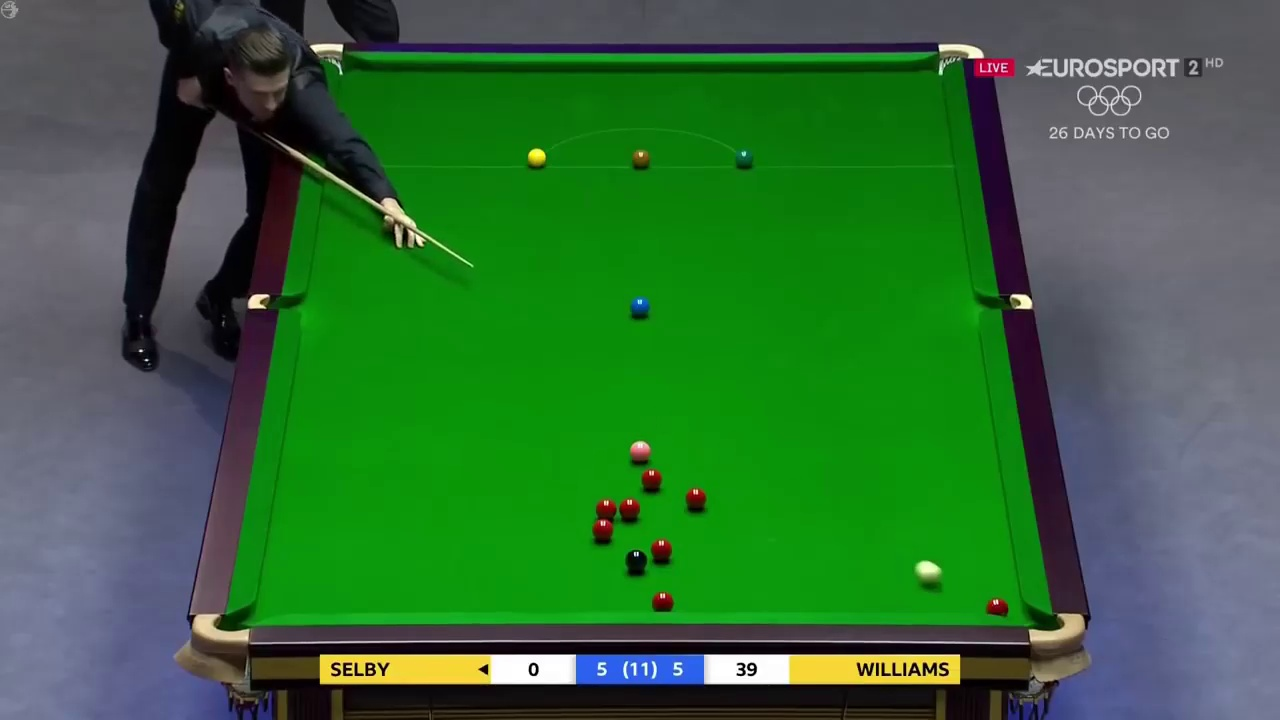ball: (682, 485, 708, 511), (623, 550, 648, 573), (618, 495, 639, 522), (651, 536, 673, 559), (588, 518, 612, 538), (628, 440, 651, 460), (525, 147, 546, 166), (631, 294, 649, 315), (641, 469, 661, 487), (631, 150, 649, 167), (734, 149, 752, 166)
